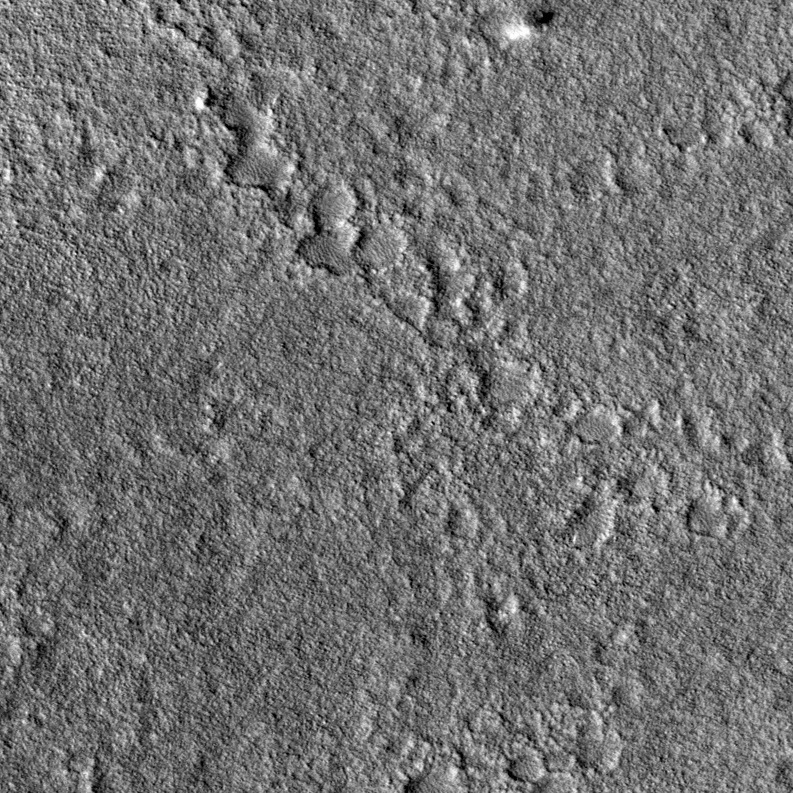dust_devil: (501, 4, 558, 44)
